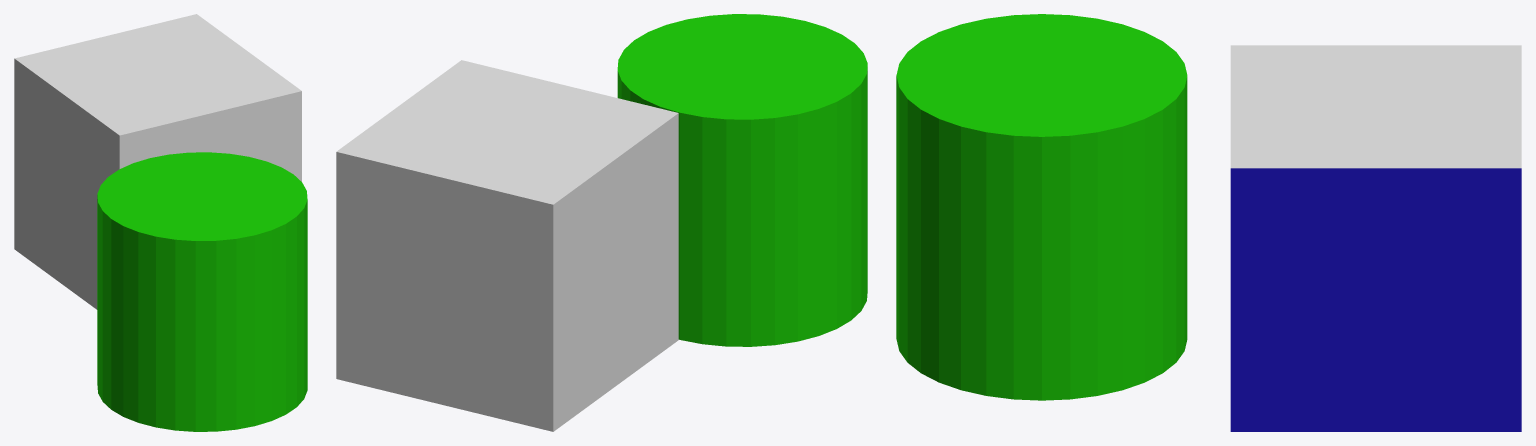
3 renders of one model, left to right at view 1: azimuth 30°, elevation 25°; view 2: azimuth 150°, elevation 25°; view 3: azimuth 270°, elevation 25°, orthographic. The views are drawn at different scales.
Parts seen in each view (by area): view 1: Cube; view 2: Cube; view 3: Cube.
Part boxes in pixels (<box>): Cube: <box>14,14,307,431</box>; Cube: <box>336,14,867,431</box>; Cube: <box>896,14,1521,431</box>.
Size of the model in its own units: 284 by 215 by 430.
